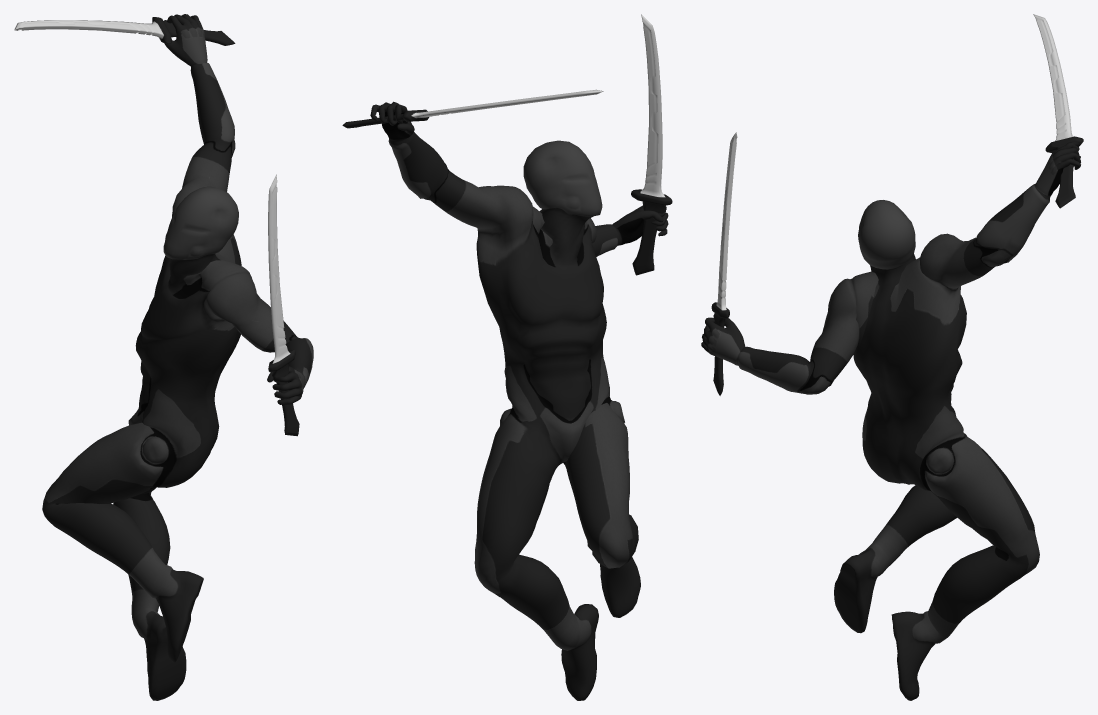
3 renders of one model, left to right at view 1: azimuth 30°, elevation 25°; view 2: azimuth 150°, elevation 25°; view 3: azimuth 270°, elevation 25°, orthographic. The views are drawn at different scales.
Parts seen in each view (by area): view 1: Cyborg_Ninja_Killer, Sword_l, Sword_l001; view 2: Cyborg_Ninja_Killer, Sword_l, Sword_l001; view 3: Cyborg_Ninja_Killer, Sword_l001, Sword_l.
Boxes of the visible parts, x1,y1,x2,y2 form: Cyborg_Ninja_Killer: (42,14,313,700); Sword_l: (268,174,299,436); Sword_l001: (14,17,235,45); Cyborg_Ninja_Killer: (370,101,668,700); Sword_l: (631,14,672,275); Sword_l001: (342,89,603,128); Cyborg_Ninja_Killer: (701,142,1080,700); Sword_l001: (1033,14,1083,208); Sword_l: (711,132,737,395).
Bounding box in the file's own units: 84.47 × 223 × 120.
Materials: 2 (2 with a texture image).
